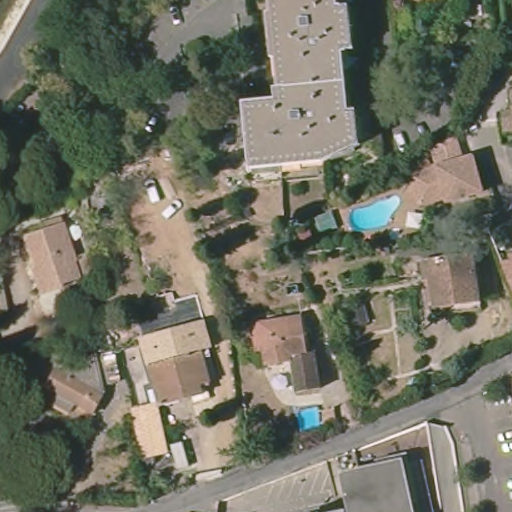pool: (349, 193, 402, 230), (295, 405, 325, 432)
